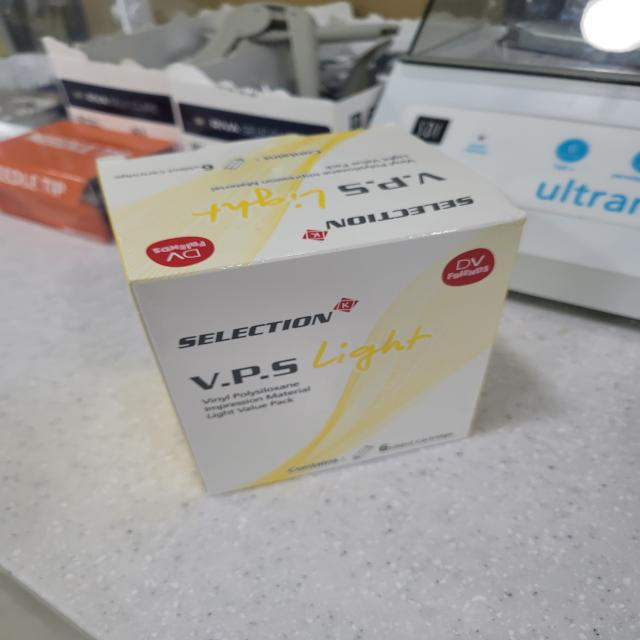impression: (61, 108, 556, 505)
